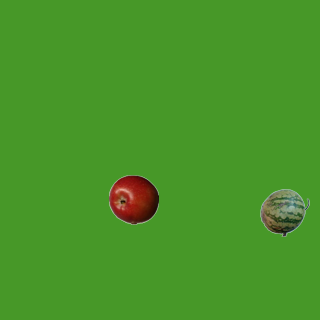Apple Braeburn: (108, 174, 158, 224)
Watermelon: (259, 187, 309, 237)
